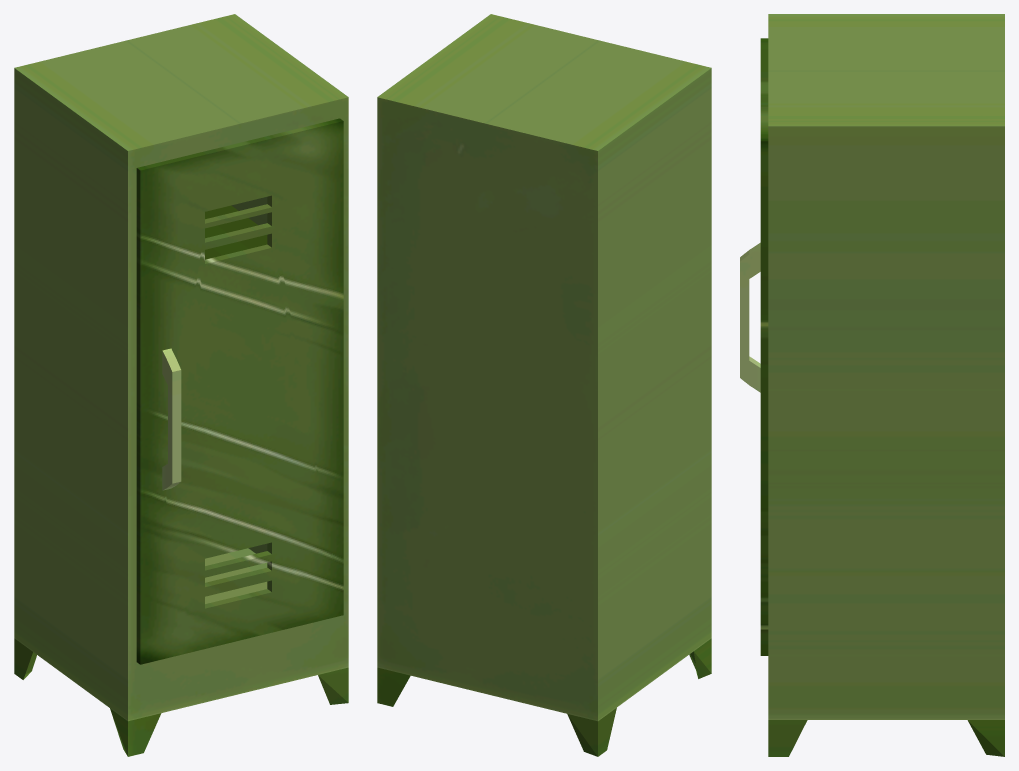
Rendered from Locker.glb.
3 views of the same model, side by side, from view 1: azimuth 30°, elevation 25°; view 2: azimuth 150°, elevation 25°; view 3: azimuth 270°, elevation 25° (orthographic). The views are drawn at different scales.
Parts seen in each view (by area): view 1: Locker; view 2: Locker; view 3: Locker.
Part boxes in pixels (<box>): Locker: <box>14,14,348,756</box>; Locker: <box>377,14,711,756</box>; Locker: <box>740,14,1004,756</box>.
Size of the model in its own units: 132 by 345 by 132.
Materials: 1 (1 with a texture image).
